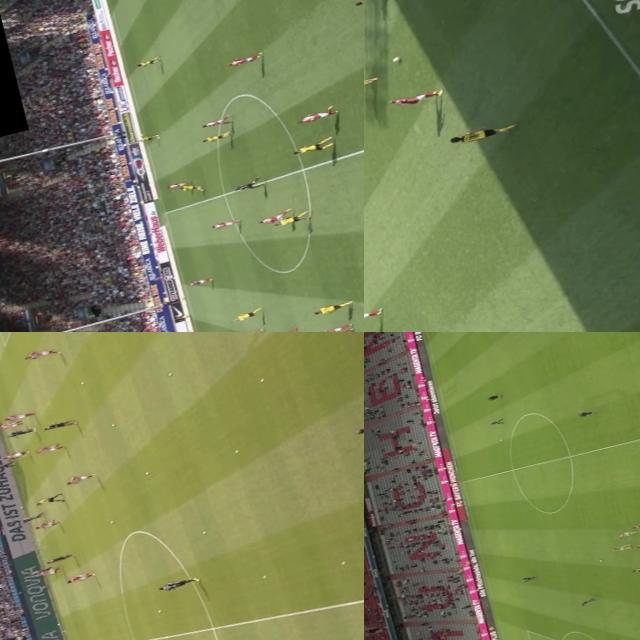ball: (389, 53, 402, 62), (105, 516, 115, 524), (233, 445, 242, 453), (199, 527, 209, 534), (164, 370, 175, 376), (260, 572, 269, 579), (108, 420, 118, 426), (256, 375, 266, 381), (596, 556, 606, 562), (77, 378, 86, 384), (143, 468, 152, 474), (496, 436, 506, 441), (154, 134, 162, 140), (156, 607, 163, 612), (338, 559, 345, 564)
player: (445, 120, 515, 147), (383, 87, 437, 108), (198, 108, 240, 131), (290, 136, 336, 154), (154, 573, 200, 591), (273, 208, 311, 228), (294, 106, 336, 124), (59, 468, 98, 486), (20, 344, 59, 362), (226, 51, 264, 69), (65, 567, 99, 585), (254, 208, 292, 224), (314, 298, 352, 314), (234, 304, 267, 322), (312, 319, 353, 332), (182, 272, 214, 288), (364, 302, 386, 325), (44, 416, 78, 430), (200, 129, 233, 143), (4, 408, 34, 422), (16, 510, 46, 524), (7, 424, 37, 438), (178, 178, 204, 194), (167, 176, 196, 190), (43, 550, 74, 563), (2, 447, 30, 461), (36, 439, 62, 454), (364, 71, 381, 93), (0, 416, 25, 429), (32, 518, 59, 530), (210, 217, 236, 229), (38, 563, 64, 575), (231, 323, 264, 332), (134, 55, 158, 67), (31, 563, 54, 574), (134, 132, 158, 142), (614, 528, 634, 538), (606, 542, 628, 551), (265, 327, 299, 332), (628, 561, 640, 573), (628, 539, 640, 550), (629, 520, 640, 530)
